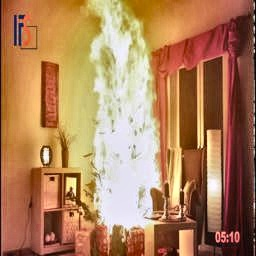fire: (68, 0, 165, 236)
